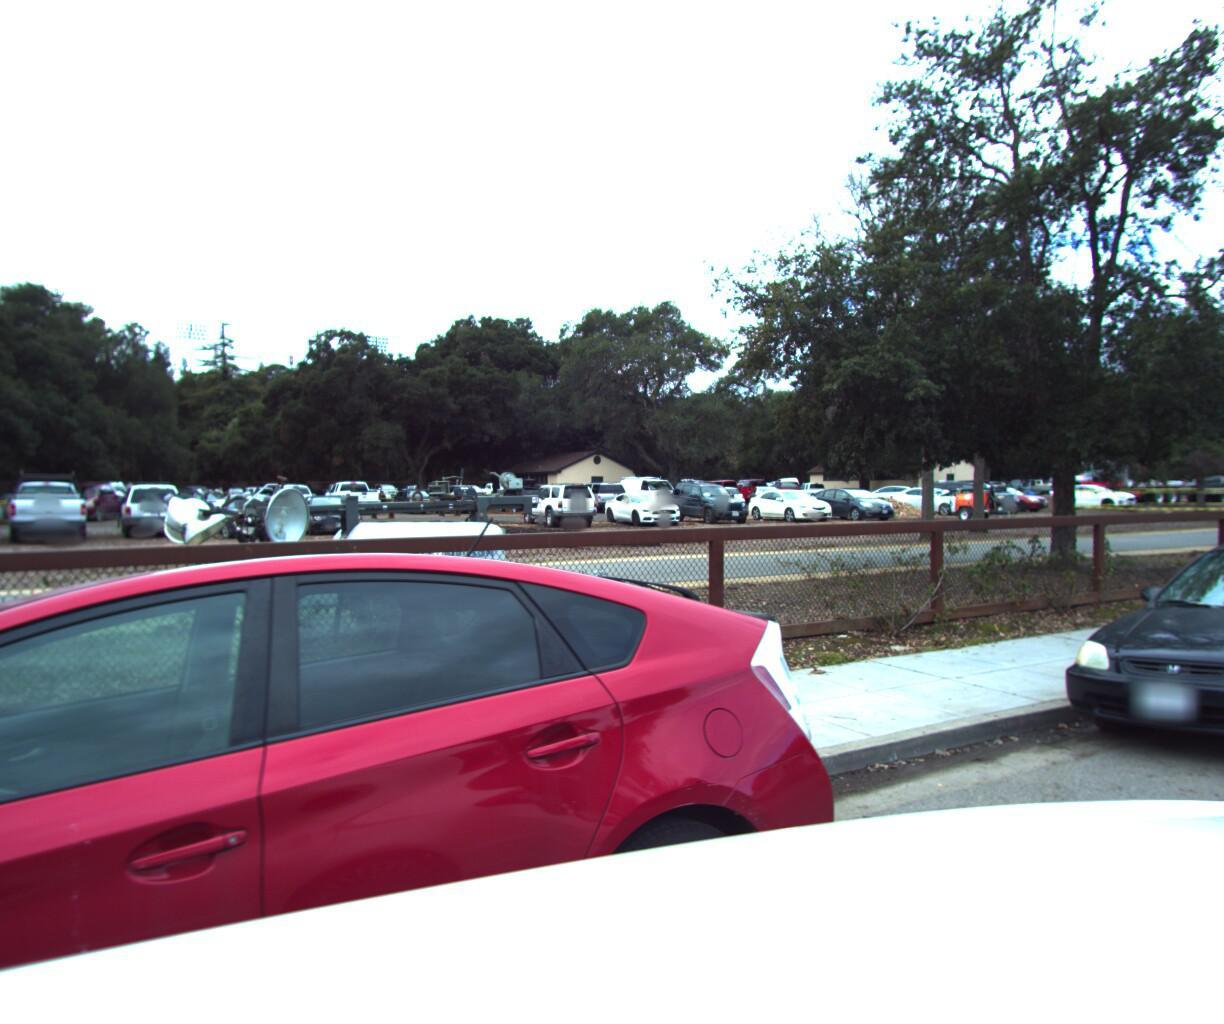car: (0, 520, 882, 1024), (1022, 511, 1224, 821)
